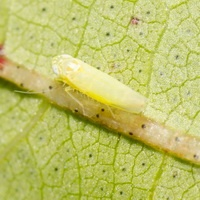insect: (0, 0, 199, 164), (50, 52, 148, 114)
